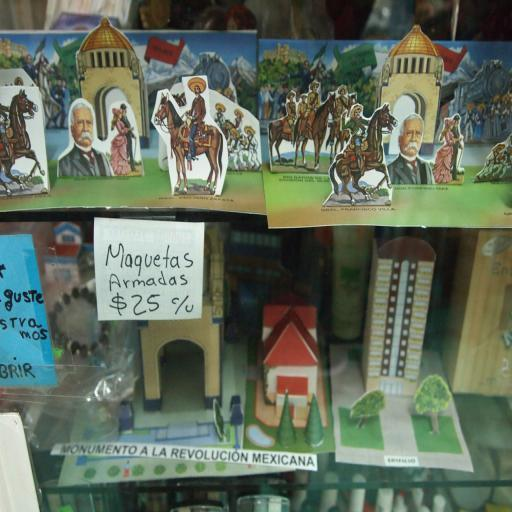Horse: (327, 102, 398, 206), (154, 90, 223, 195), (0, 89, 46, 196), (292, 92, 338, 174), (327, 92, 357, 167), (267, 117, 298, 166)
